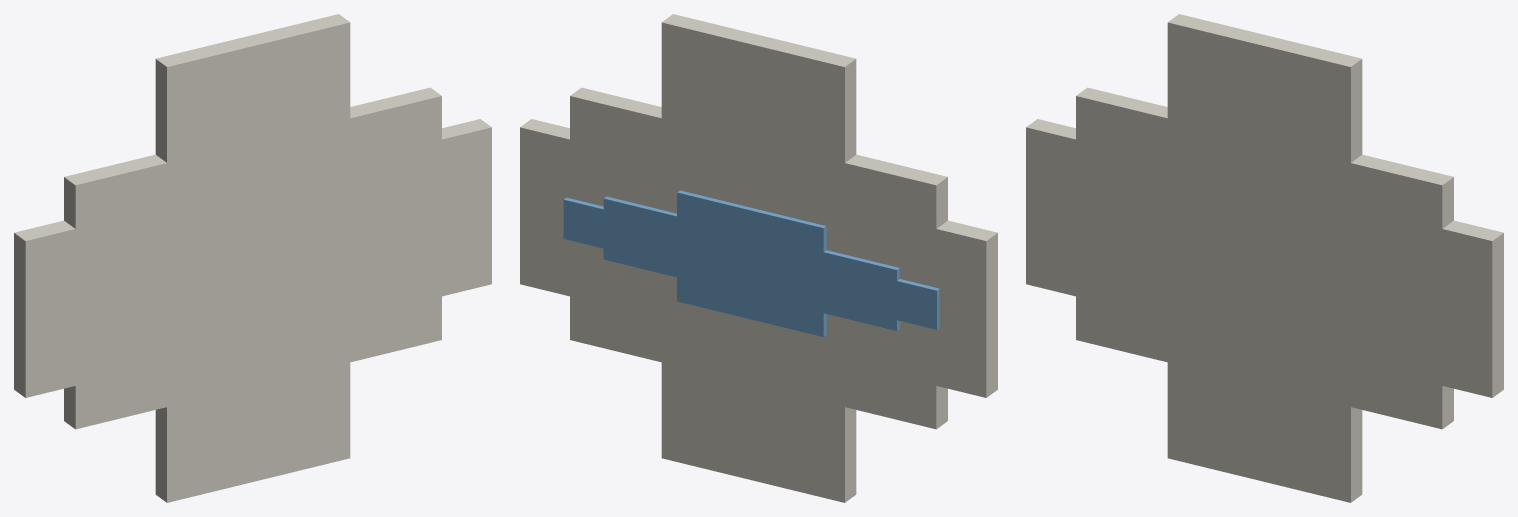
Rendered from MOD_CAFE_SIGN_STANDARD_001_LOD_MAP.glb.
The picture shows the model from 3 angles, left to right: view 1: azimuth 30°, elevation 25°; view 2: azimuth 150°, elevation 25°; view 3: azimuth 330°, elevation 25°; orthographic projection.
Visible parts, largest first — view 1: MOD_CAFE_SIGN_STANDARD_001_VERTICAL_SIDE_SIGN_MAP_PANEL, MOD_CAFE_SIGN_STANDARD_001_BAKERY_CAFE_SHARED_PANEL_MAP_PANE, MOD_CAFE_SIGN_STANDARD_001_HANGING_CAFE_SIGN_MAP_PANEL, MOD_CAFE_SIGN_STANDARD_001_WALL_FASCIA_SIGN_MAP_PANEL; view 2: MOD_CAFE_SIGN_STANDARD_001_VERTICAL_SIDE_SIGN_MAP_PANEL, MOD_CAFE_SIGN_STANDARD_001_BAKERY_CAFE_SHARED_PANEL_MAP_PANE, MOD_CAFE_SIGN_STANDARD_001_WALL_FASCIA_SIGN_MAP_PANEL, MOD_CAFE_SIGN_STANDARD_001_HANGING_CAFE_SIGN_MAP_PANEL, MOD_CAFE_SIGN_STANDARD_001_BAKERY_CAFE_SHARED_PANEL_MAP_ACCE, MOD_CAFE_SIGN_STANDARD_001_VERTICAL_SIDE_SIGN_MAP_ACCENT, MOD_CAFE_SIGN_STANDARD_001_HANGING_CAFE_SIGN_MAP_ACCENT, MOD_CAFE_SIGN_STANDARD_001_WALL_FASCIA_SIGN_MAP_ACCENT; view 3: MOD_CAFE_SIGN_STANDARD_001_VERTICAL_SIDE_SIGN_MAP_PANEL, MOD_CAFE_SIGN_STANDARD_001_WALL_FASCIA_SIGN_MAP_PANEL, MOD_CAFE_SIGN_STANDARD_001_HANGING_CAFE_SIGN_MAP_PANEL, MOD_CAFE_SIGN_STANDARD_001_BAKERY_CAFE_SHARED_PANEL_MAP_PANE.
Boxes of the visible parts, <box> form: MOD_CAFE_SIGN_STANDARD_001_VERTICAL_SIDE_SIGN_MAP_PANEL: <box>155,14,350,502</box>; MOD_CAFE_SIGN_STANDARD_001_BAKERY_CAFE_SHARED_PANEL_MAP_PANE: <box>64,87,441,429</box>; MOD_CAFE_SIGN_STANDARD_001_HANGING_CAFE_SIGN_MAP_PANEL: <box>125,134,391,390</box>; MOD_CAFE_SIGN_STANDARD_001_WALL_FASCIA_SIGN_MAP_PANEL: <box>14,119,491,397</box>; MOD_CAFE_SIGN_STANDARD_001_VERTICAL_SIDE_SIGN_MAP_PANEL: <box>661,14,856,502</box>; MOD_CAFE_SIGN_STANDARD_001_BAKERY_CAFE_SHARED_PANEL_MAP_PANE: <box>570,87,947,429</box>; MOD_CAFE_SIGN_STANDARD_001_WALL_FASCIA_SIGN_MAP_PANEL: <box>520,119,997,397</box>; MOD_CAFE_SIGN_STANDARD_001_HANGING_CAFE_SIGN_MAP_PANEL: <box>620,134,886,390</box>; MOD_CAFE_SIGN_STANDARD_001_BAKERY_CAFE_SHARED_PANEL_MAP_ACCE: <box>603,196,899,330</box>; MOD_CAFE_SIGN_STANDARD_001_VERTICAL_SIDE_SIGN_MAP_ACCENT: <box>677,190,826,336</box>; MOD_CAFE_SIGN_STANDARD_001_HANGING_CAFE_SIGN_MAP_ACCENT: <box>643,222,856,314</box>; MOD_CAFE_SIGN_STANDARD_001_WALL_FASCIA_SIGN_MAP_ACCENT: <box>563,197,939,329</box>; MOD_CAFE_SIGN_STANDARD_001_VERTICAL_SIDE_SIGN_MAP_PANEL: <box>1167,14,1362,502</box>; MOD_CAFE_SIGN_STANDARD_001_WALL_FASCIA_SIGN_MAP_PANEL: <box>1026,119,1503,397</box>; MOD_CAFE_SIGN_STANDARD_001_HANGING_CAFE_SIGN_MAP_PANEL: <box>1126,134,1392,390</box>; MOD_CAFE_SIGN_STANDARD_001_BAKERY_CAFE_SHARED_PANEL_MAP_PANE: <box>1076,87,1453,429</box>.
Size of the model in its own units: 2.8 by 2.5 by 0.15.
